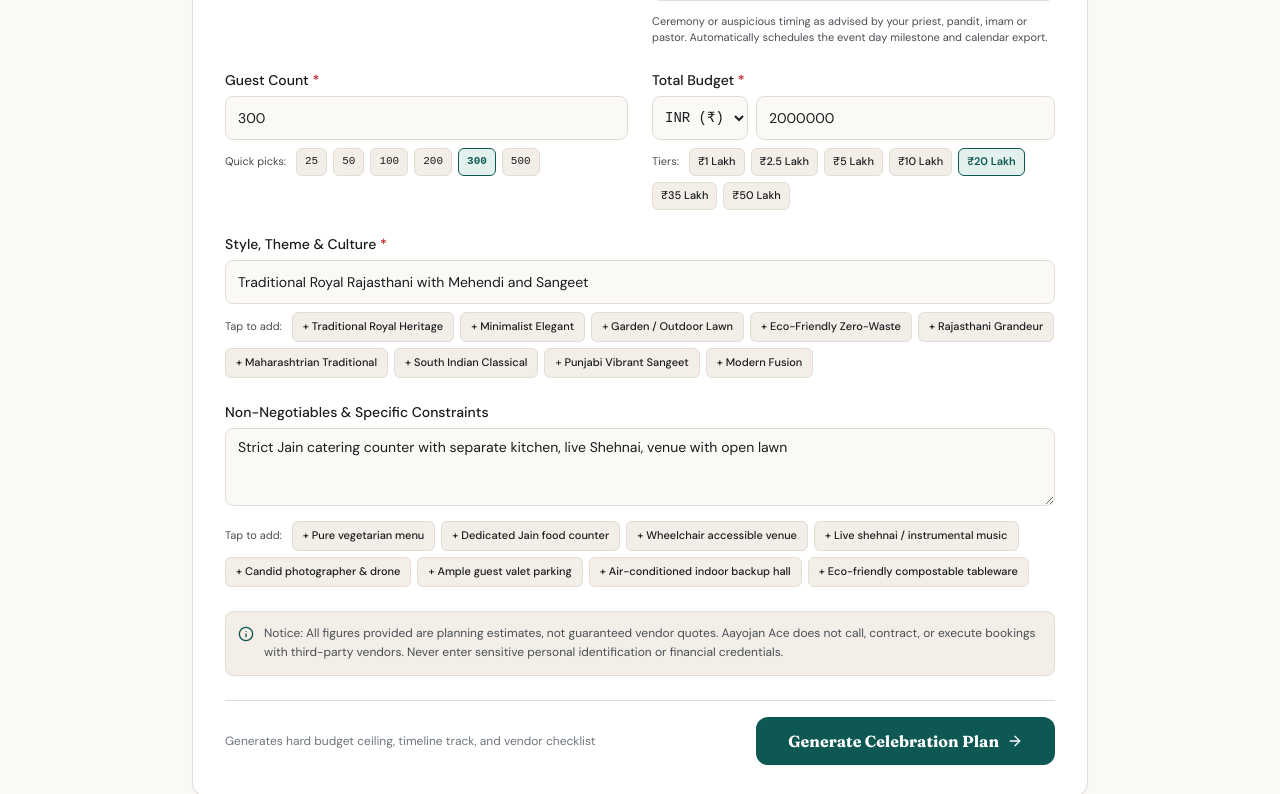
Test: Task B: Plan Generation Failure & Navigation Rules › Typed Error Messages and Retry Button Styling › renders calm message and distinct buttons for AI_QUOTA_EXHAUSTED with Reference line and passes jest-axe
(page scrolled)
Click the button "Generate Celebration Plan" at (906, 740), box [756,716,1055,764]
(page scrolled)
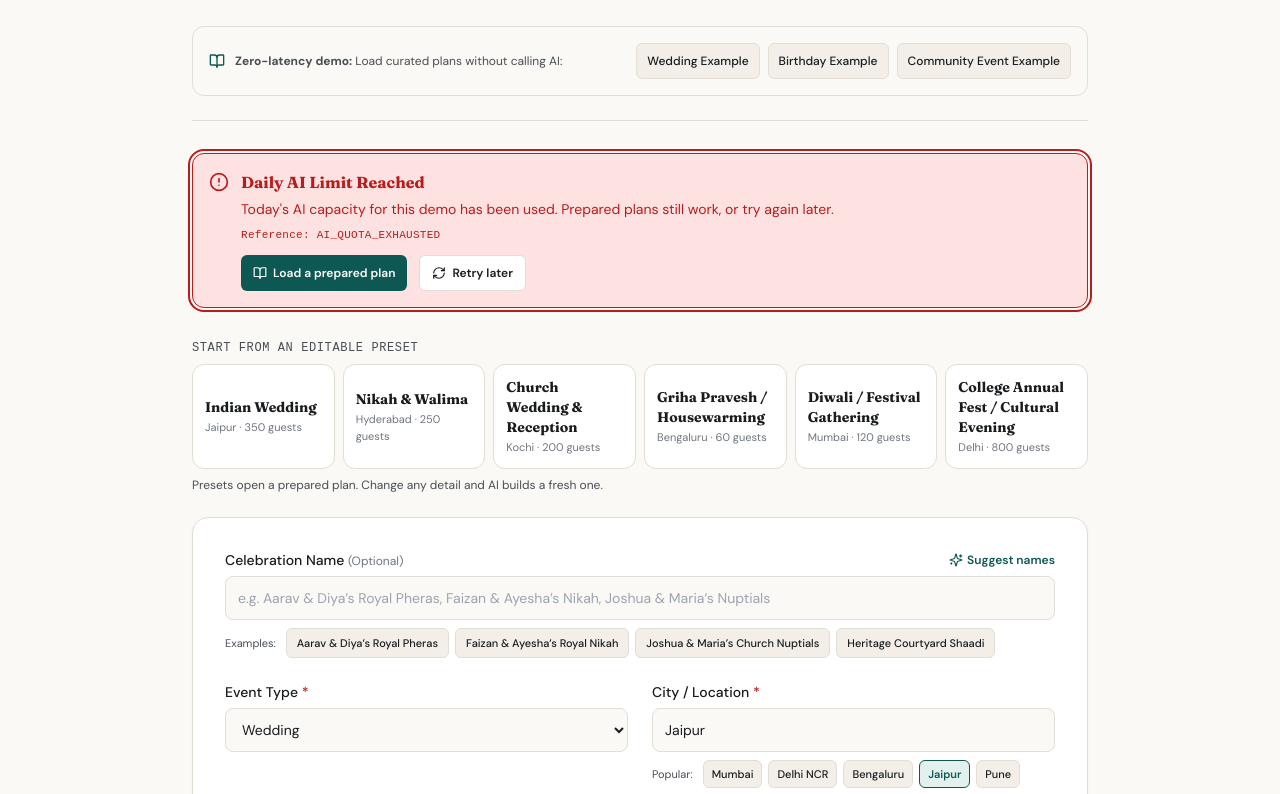
Expected: the message is shown, [192,153,1088,308]
Expected: the text "Today's AI capacity for this demo has been used. Prepared plans still work, or try again later." is shown, [241,200,834,218]
Expected: the button "Load a prepared plan" is shown, [241,255,408,291]
